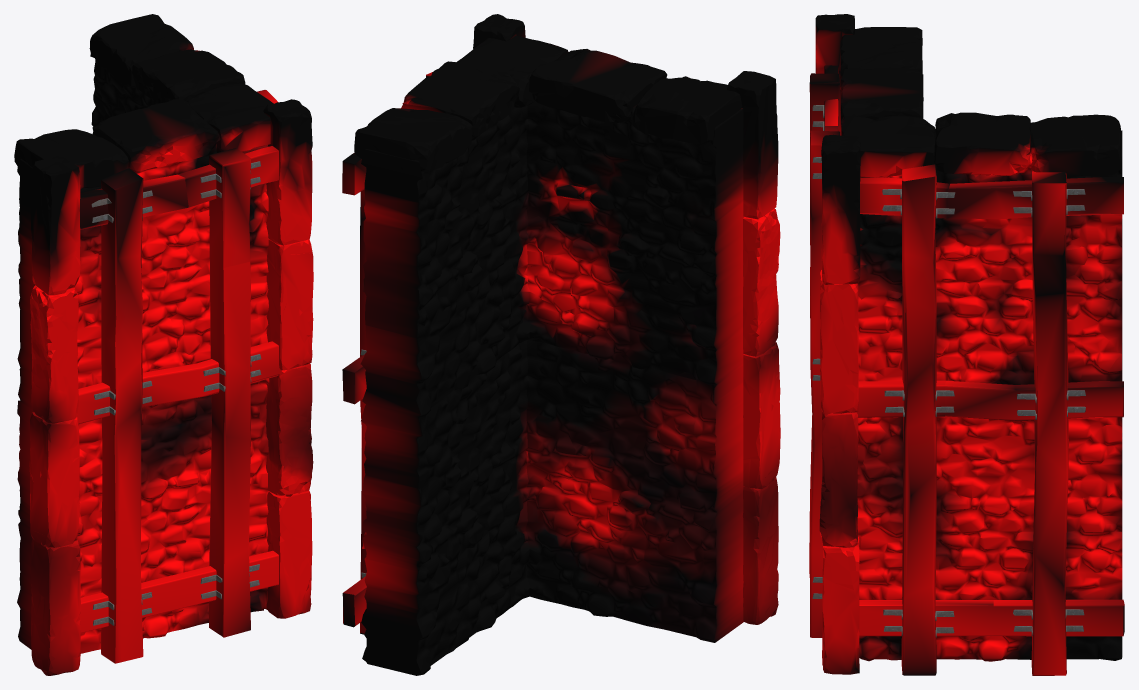
Rendered from SM_DockWall_OutsideCorner_01.fbx.
The picture shows the model from 3 angles, left to right: view 1: azimuth 30°, elevation 25°; view 2: azimuth 150°, elevation 25°; view 3: azimuth 270°, elevation 25°; orthographic projection. The views are drawn at different scales.
Visible parts, largest first — view 1: SM_DockWall_OutsideCorner_01_LOD0; view 2: SM_DockWall_OutsideCorner_01_LOD0; view 3: SM_DockWall_OutsideCorner_01_LOD0.
Boxes of the visible parts, left/top/right/bottom form: SM_DockWall_OutsideCorner_01_LOD0: left=14, top=14, right=313, bottom=675; SM_DockWall_OutsideCorner_01_LOD0: left=342, top=14, right=780, bottom=675; SM_DockWall_OutsideCorner_01_LOD0: left=809, top=14, right=1124, bottom=675.
Bounding box in the file's own units: 480 × 454 × 835.
